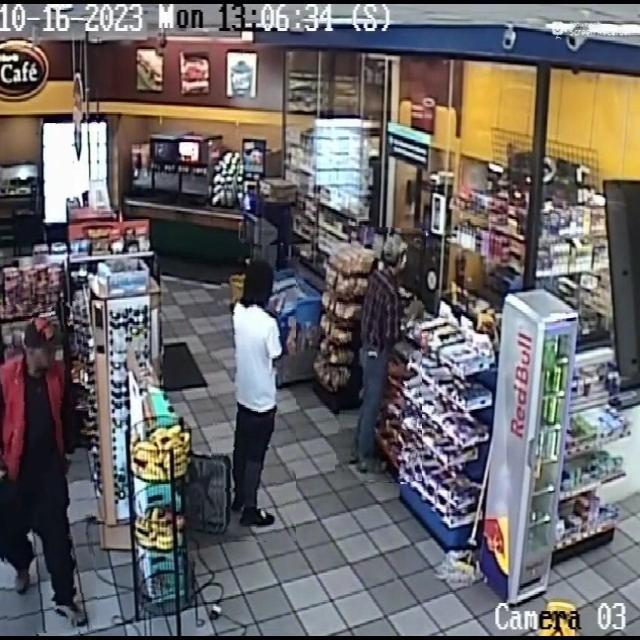Normal: (0, 302, 93, 634), (211, 244, 296, 542), (339, 227, 422, 483)
